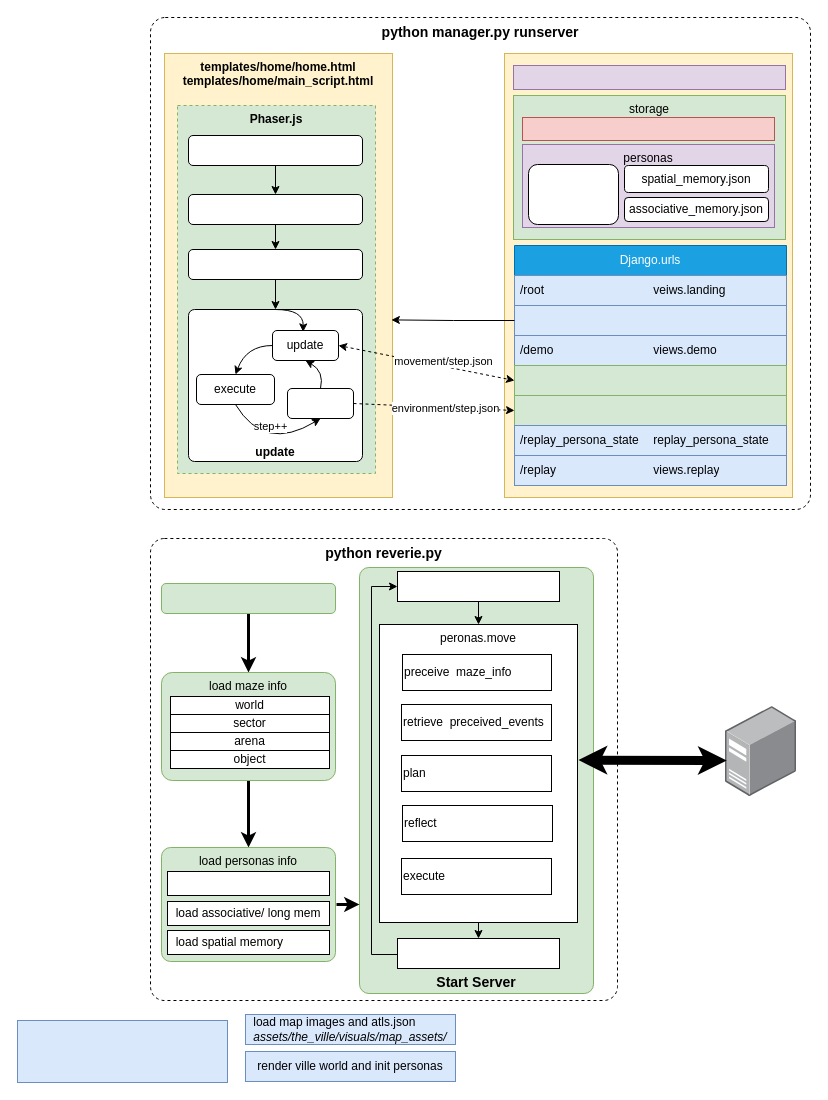
Some shapes in this 828 by 1100 pixel diagram are drawn without their labels. The shapes that lost their labels are listed below. From the top down, each one's centre as x and y in pixels, then its label:
At pixel 649 77: "templates + static_dirs + temp_storage".
At pixel 648 128: "environment + movement + reverie".
At pixel 275 150: "Init".
At pixel 275 209: "preload".
At pixel 573 194: "scratch.json".
At pixel 275 264: "create".
At pixel 650 320: "/simulator_home views.home".
At pixel 650 380: "/update_environment update_environment".
At pixel 320 403: "process".
At pixel 650 410: "/process_environment process_environment".
At pixel 248 598: "fork reverie wold".
At pixel 478 586: "fetch environment/{step}.json".
At pixel 760 751: "LLM Server".
At pixel 248 883: "load scratch/ short mem".
At pixel 478 953: "create movement/{step}.json".
At pixel 122 1051: "Phaser.js :是一个快速、免费且开源的 2D 游戏框架，用于在 HTML5 Canvas 和 WebGL 中创建游戏。".
